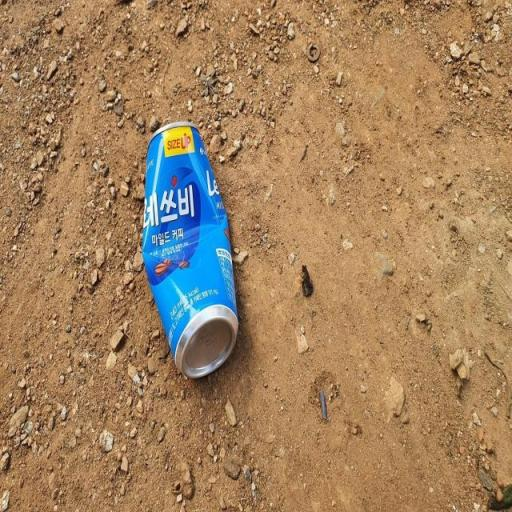metal: (134, 102, 249, 398)
